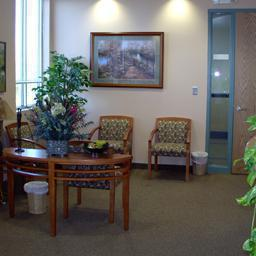Bote de Basura: (23, 181, 49, 218), (191, 148, 212, 178)
Matera: (36, 49, 86, 173)
Puerta: (233, 11, 254, 174)
Ventana: (13, 3, 43, 107)
